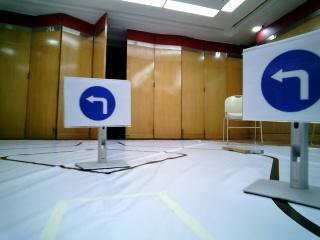left: (242, 48, 320, 119), (62, 76, 130, 125)
